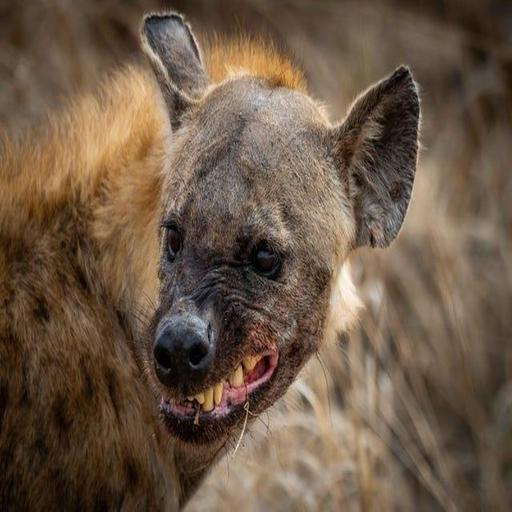Hyena: (0, 3, 429, 512)
